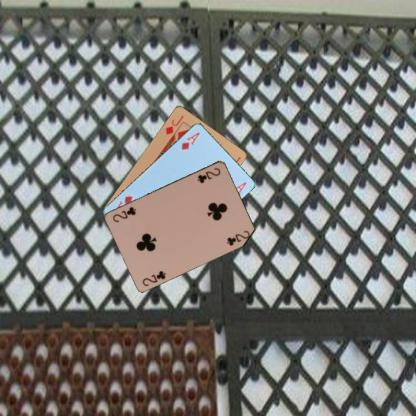2c: (195, 165, 222, 184), (140, 268, 167, 287)
Ad: (179, 129, 201, 151)
Jd: (163, 112, 185, 136)
